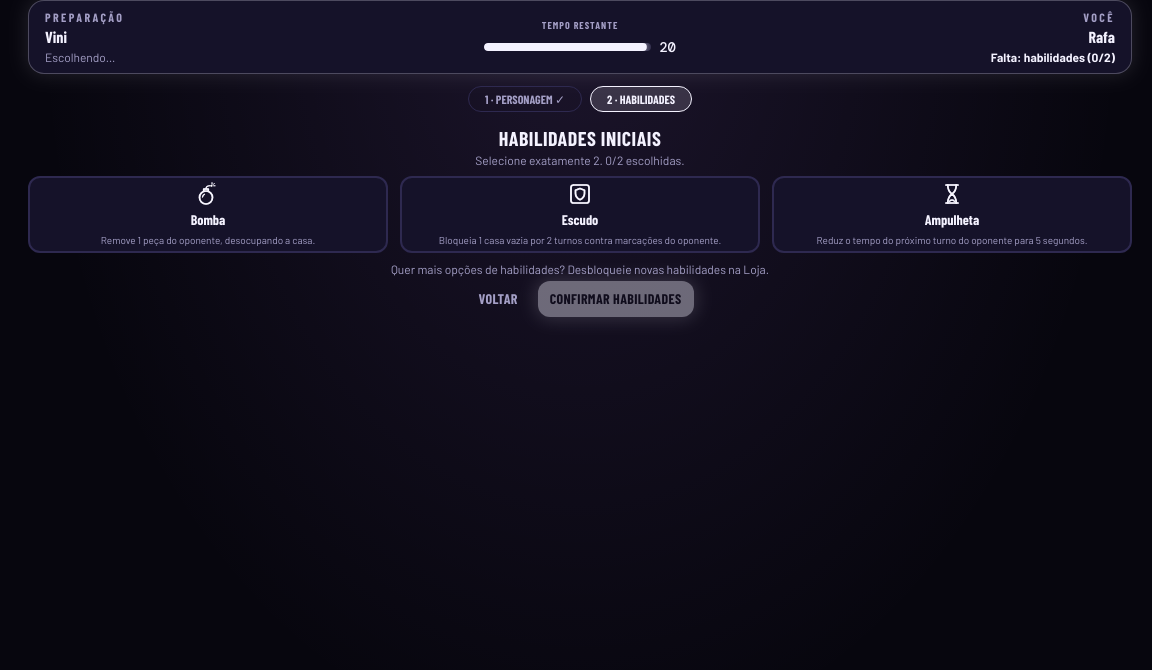
Test: Preparação: guiar o jogador pelas 2 etapas › o servidor confirma o personagem e a tela segue sozinha para as habilidades
Expected: the heading "Habilidades iniciais" is shown, [499,126,661,150]
Note: Dá para voltar e trocar
Click the button "1 · Personagem ✓". click: (525, 99)
box: [468,86,582,112]
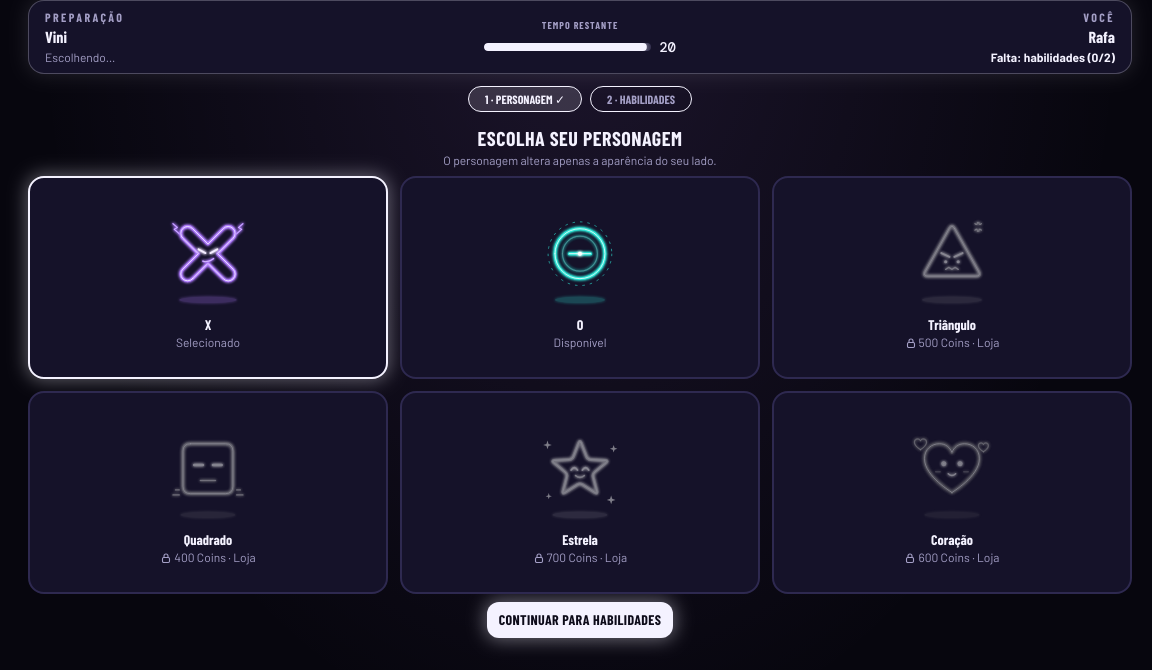
Expected: the heading "Escolha seu personagem" is shown, [478,126,682,150]
